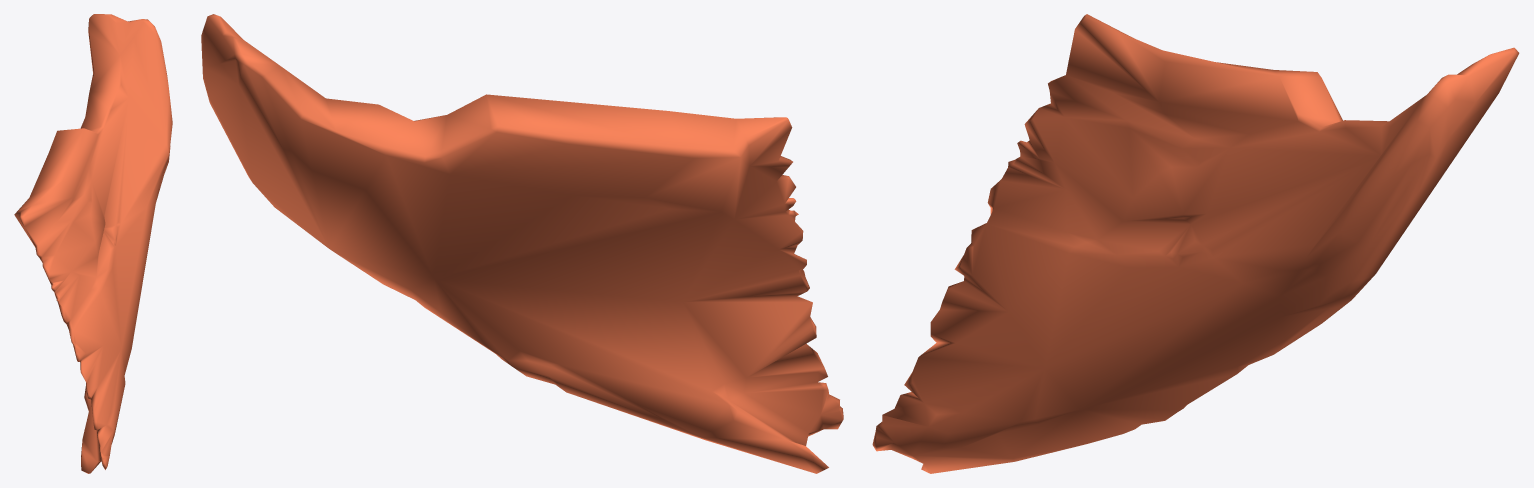
Rendered from Inferior_head_of_lateral_pterygoid_muscle.l_Generated_Mesh_From.glb.
The picture shows the model from 3 angles, left to right: view 1: azimuth 30°, elevation 25°; view 2: azimuth 150°, elevation 25°; view 3: azimuth 270°, elevation 25°; orthographic projection. The views are drawn at different scales.
Visible parts, largest first — view 1: Inferior_head_of_lateral_pterygoid_muscle.l_Generated_Mesh_F; view 2: Inferior_head_of_lateral_pterygoid_muscle.l_Generated_Mesh_F; view 3: Inferior_head_of_lateral_pterygoid_muscle.l_Generated_Mesh_F.
Part boxes in pixels (bbox=[...]): Inferior_head_of_lateral_pterygoid_muscle.l_Generated_Mesh_F: bbox=[14, 14, 172, 473]; Inferior_head_of_lateral_pterygoid_muscle.l_Generated_Mesh_F: bbox=[201, 14, 843, 473]; Inferior_head_of_lateral_pterygoid_muscle.l_Generated_Mesh_F: bbox=[872, 14, 1519, 473].
Size of the model in its own units: 0.0177 by 0.0225 by 0.0229.
